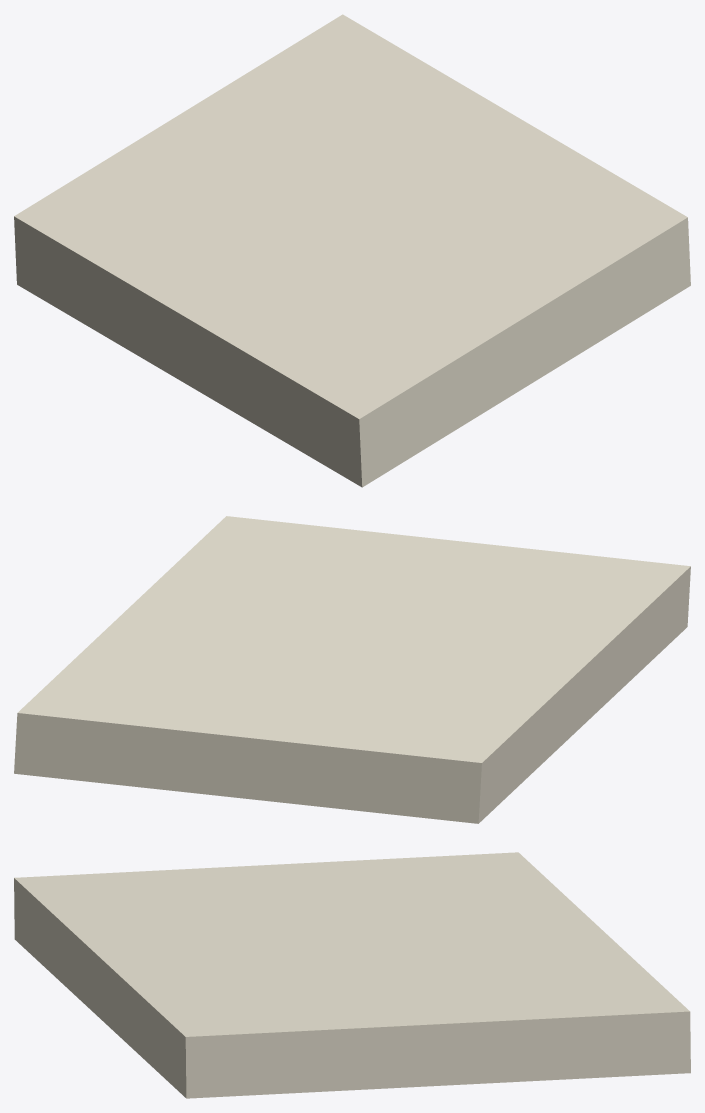
3 views of the same model, one above another, from view 1: azimuth 30°, elevation 25°; view 2: azimuth 150°, elevation 25°; view 3: azimuth 270°, elevation 25° (orthographic). The views are drawn at different scales.
Parts seen in each view (by area): view 1: ZA_7a314d13201c4a2d; view 2: ZA_7a314d13201c4a2d; view 3: ZA_7a314d13201c4a2d.
Boxes of the visible parts, left/top/right/bottom form: ZA_7a314d13201c4a2d: left=14, top=14, right=690, bottom=487; ZA_7a314d13201c4a2d: left=14, top=516, right=690, bottom=823; ZA_7a314d13201c4a2d: left=14, top=852, right=690, bottom=1098.
Bounding box in the file's own units: 0.00365 × 0.000701 × 0.00509.
